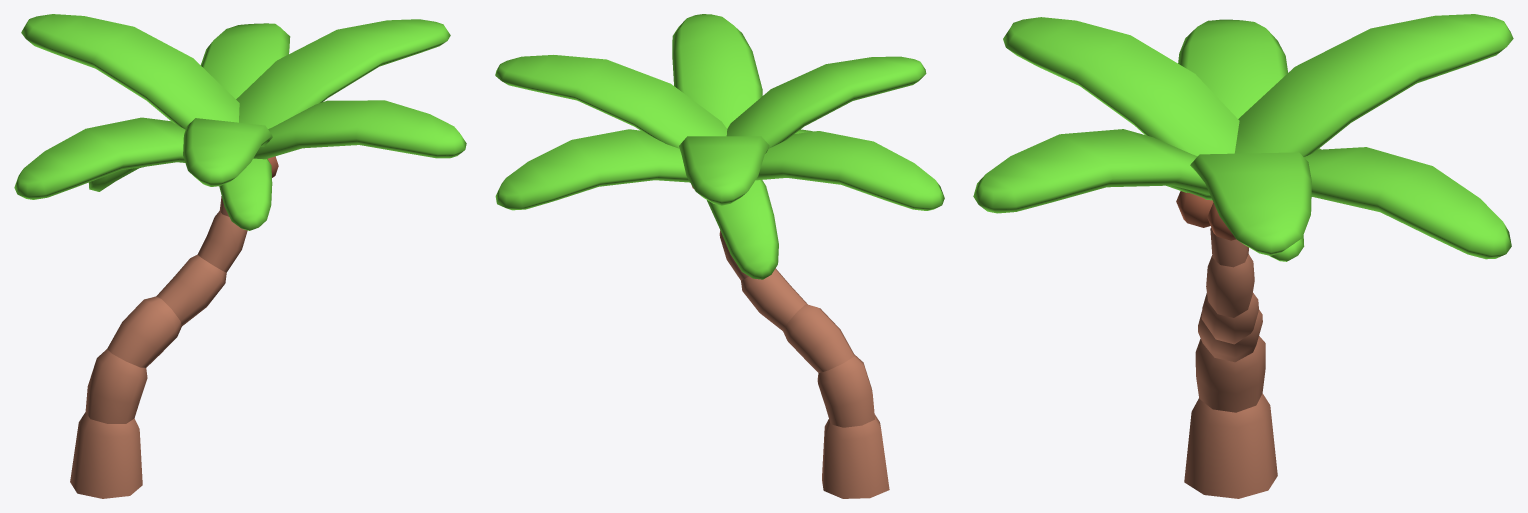
Rendered from SM_PalmTree.fbx.
3 renders of one model, left to right at view 1: azimuth 30°, elevation 25°; view 2: azimuth 150°, elevation 25°; view 3: azimuth 270°, elevation 25°, orthographic. The views are drawn at different scales.
Visible parts, largest first — view 1: BézierCurve.002; view 2: BézierCurve.002; view 3: BézierCurve.002.
Part boxes in pixels (bbox=[...]): BézierCurve.002: bbox=[14, 14, 466, 498]; BézierCurve.002: bbox=[495, 14, 944, 498]; BézierCurve.002: bbox=[973, 14, 1513, 498].
Bounding box in the file's own units: 1344 × 1099 × 1117.
